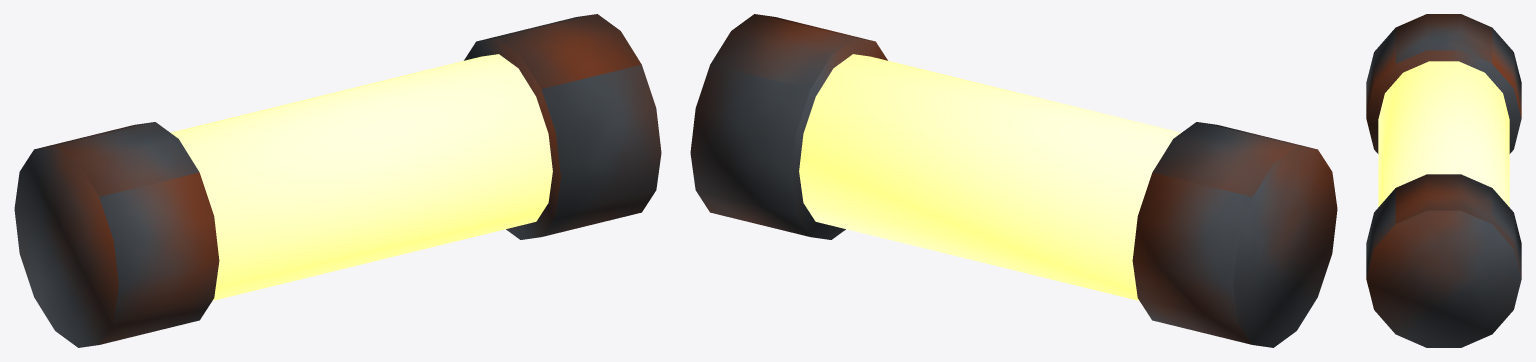
Rendered from item_fuse.glb.
The picture shows the model from 3 angles, left to right: view 1: azimuth 30°, elevation 25°; view 2: azimuth 150°, elevation 25°; view 3: azimuth 270°, elevation 25°; orthographic projection. The views are drawn at different scales.
Visible parts, largest first — view 1: CoreTube, CapA, CapB; view 2: CoreTube, CapA, CapB; view 3: CapB, CoreTube, CapA.
Part boxes in pixels (bbox=[...]): CoreTube: bbox=[170, 54, 552, 300]; CapA: bbox=[14, 122, 219, 347]; CapB: bbox=[464, 14, 661, 239]; CoreTube: bbox=[799, 54, 1181, 300]; CapA: bbox=[1132, 122, 1337, 347]; CapB: bbox=[690, 14, 887, 239]; CapB: bbox=[1366, 174, 1521, 347]; CoreTube: bbox=[1378, 61, 1509, 206]; CapA: bbox=[1366, 14, 1521, 153].
Bounding box in the file's own units: 0.2701 × 0.0878 × 0.09.
2 materials, 1 textured.
